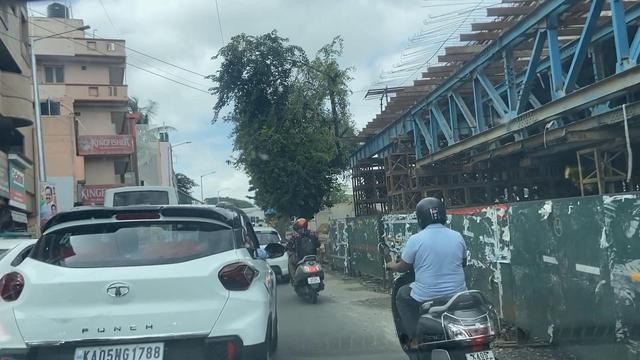LMV: (385, 213, 486, 360), (288, 220, 327, 301)
